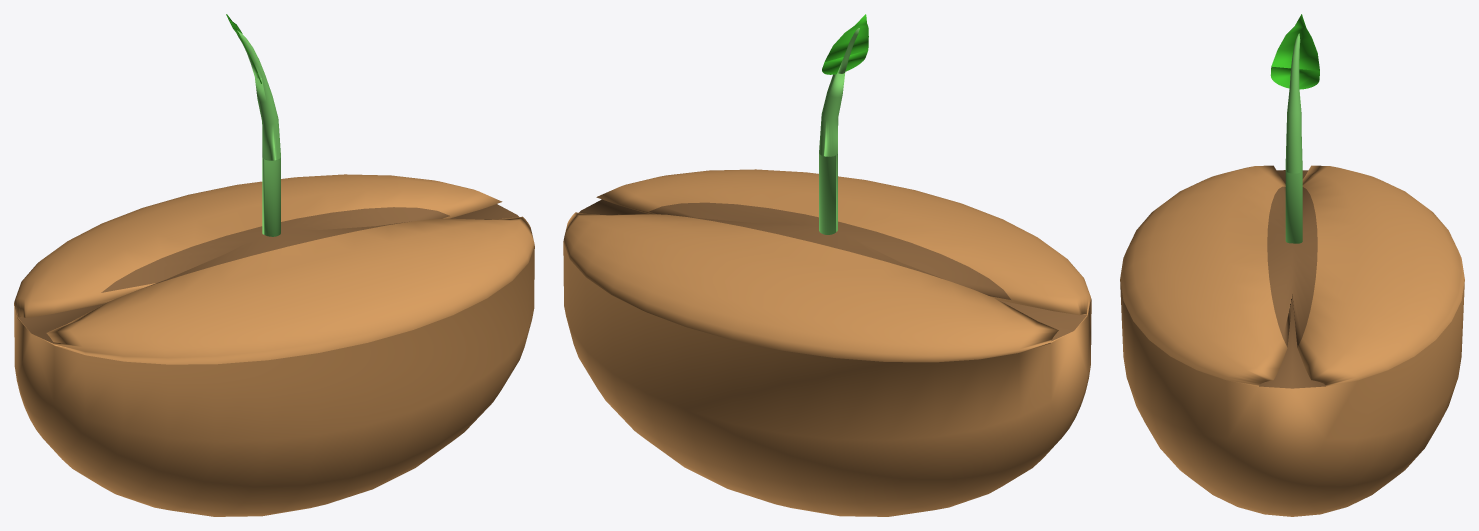
The model's file is recursoNatureza.fbx.
The picture shows the model from 3 angles, left to right: view 1: azimuth 30°, elevation 25°; view 2: azimuth 150°, elevation 25°; view 3: azimuth 270°, elevation 25°; orthographic projection. The views are drawn at different scales.
Visible parts, largest first — view 1: Sphere; view 2: Sphere; view 3: Sphere.
Boxes of the visible parts, <box> form: Sphere: <box>14,14,534,516</box>; Sphere: <box>563,14,1091,516</box>; Sphere: <box>1120,14,1464,516</box>.
Bounding box in the file's own units: 300 × 288 × 200.
